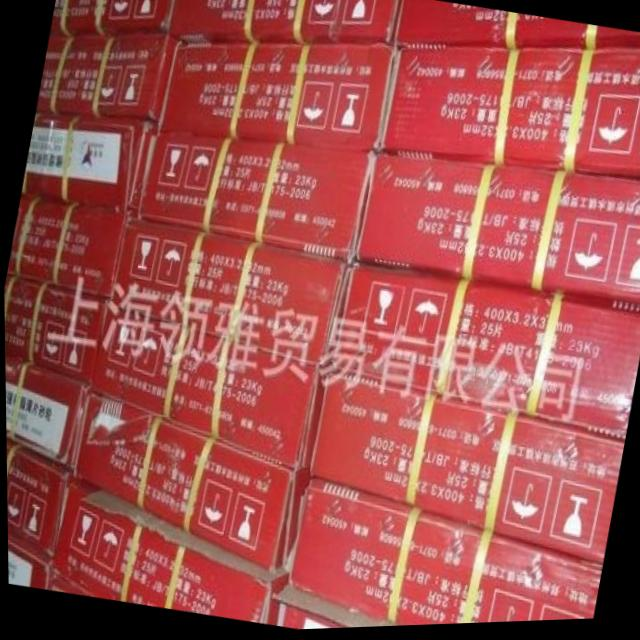box: (309, 367, 623, 566), (326, 264, 640, 441), (291, 471, 600, 628), (352, 150, 640, 310), (74, 388, 309, 574), (88, 296, 331, 470), (111, 217, 351, 366), (53, 478, 290, 627), (379, 47, 640, 177), (139, 137, 378, 262), (154, 34, 394, 152), (20, 114, 159, 219), (393, 0, 640, 48), (6, 198, 124, 296), (3, 277, 106, 385), (170, 0, 401, 47), (36, 36, 170, 114), (4, 357, 88, 477), (5, 444, 74, 565), (284, 571, 417, 631), (49, 0, 175, 39), (6, 537, 53, 589), (49, 566, 93, 596)
